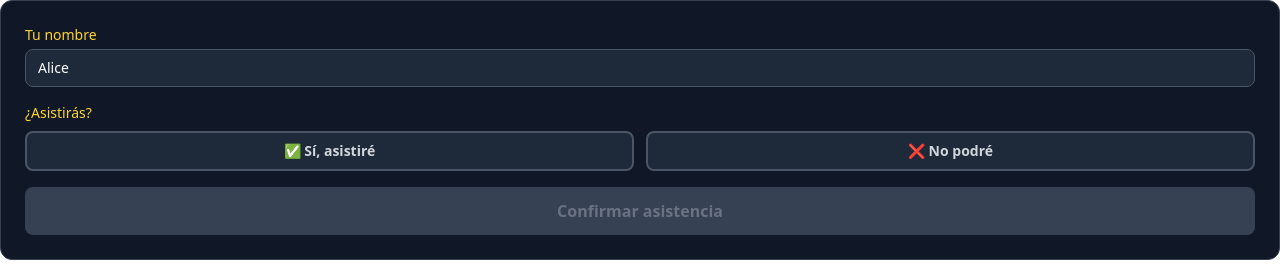
RsvpForm › shows success message after successful submission
This screenshot has width=1280, height=277.
What coordinates should you click on to do the following:
click the button "✅ Sí, asistiré"
I would click on:
 (330, 151)
Its box is [25,131,634,171].
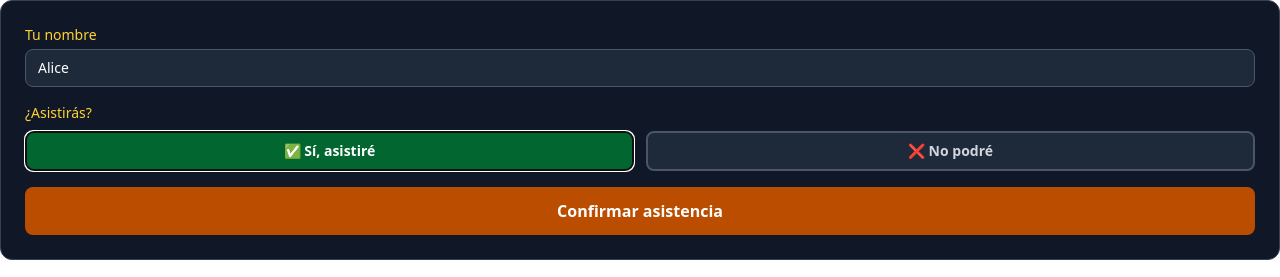
What coordinates should you click on to do the following:
click the button "Confirmar asistencia"
I would click on:
 (640, 211)
Its box is [25,187,1255,235].
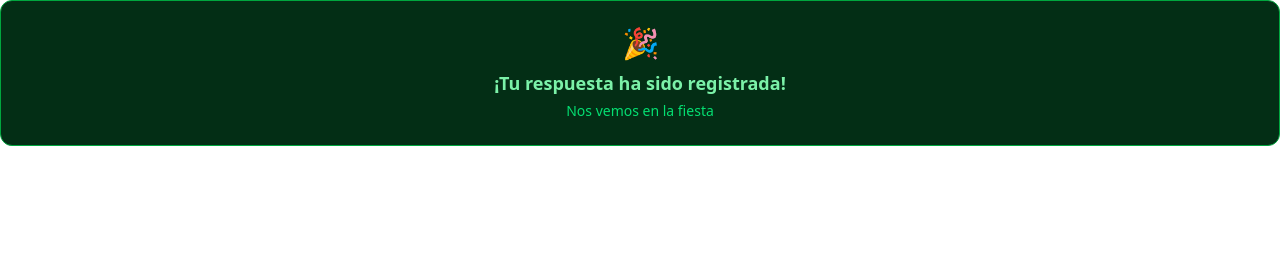
Expected: the text "¡Tu respuesta ha sido registrada!" is shown, [494,71,786,95]
